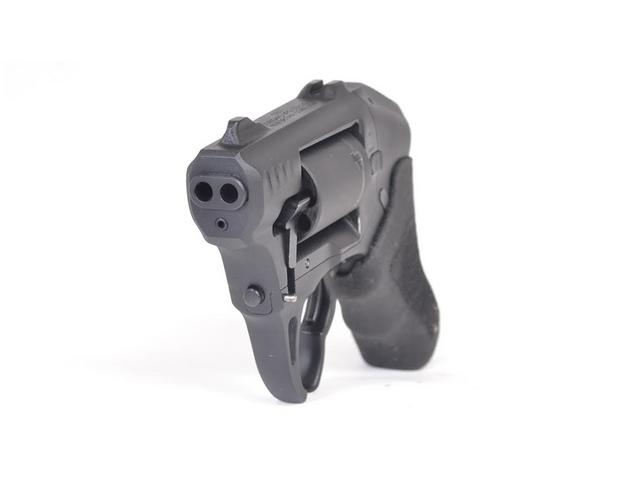pistol: (175, 63, 448, 413)
